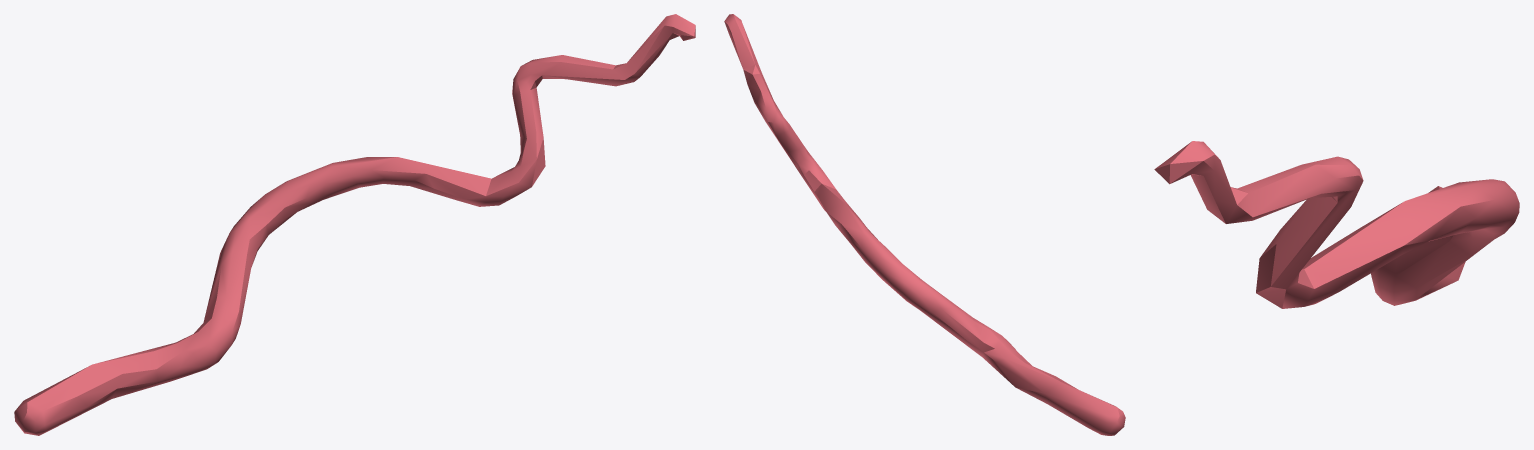
File: fma4712_fj2708.glb
The picture shows the model from 3 angles, left to right: view 1: azimuth 30°, elevation 25°; view 2: azimuth 150°, elevation 25°; view 3: azimuth 270°, elevation 25°; orthographic projection. The views are drawn at different scales.
Visible parts, largest first — view 1: FMA4712_FJ2708; view 2: FMA4712_FJ2708; view 3: FMA4712_FJ2708.
Part boxes in pixels (left/top/right/bottom): FMA4712_FJ2708: left=14, top=14, right=695, bottom=435; FMA4712_FJ2708: left=724, top=14, right=1125, bottom=435; FMA4712_FJ2708: left=1154, top=141, right=1519, bottom=308.
Bounding box in the file's own units: 0.0191 × 0.0106 × 0.00654.
